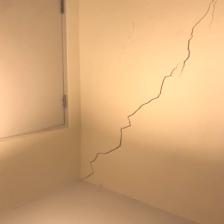Medium: (84, 39, 209, 169)
